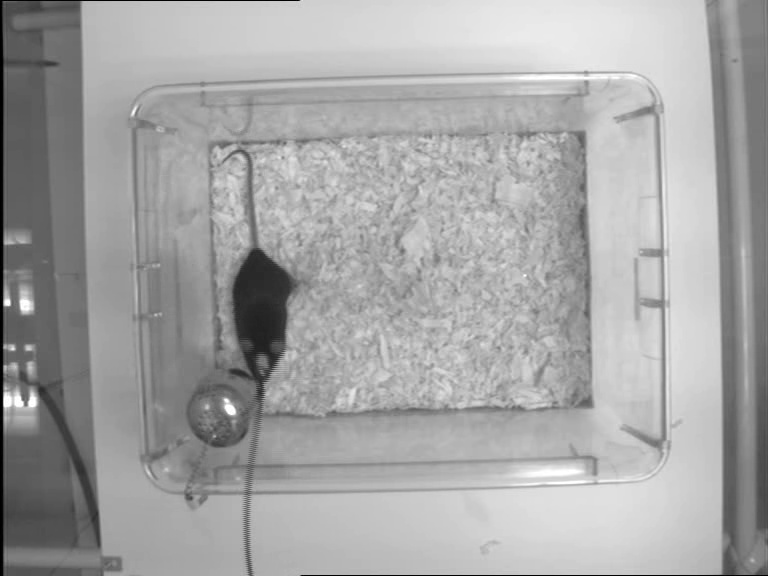mice: (214, 147, 304, 385)
